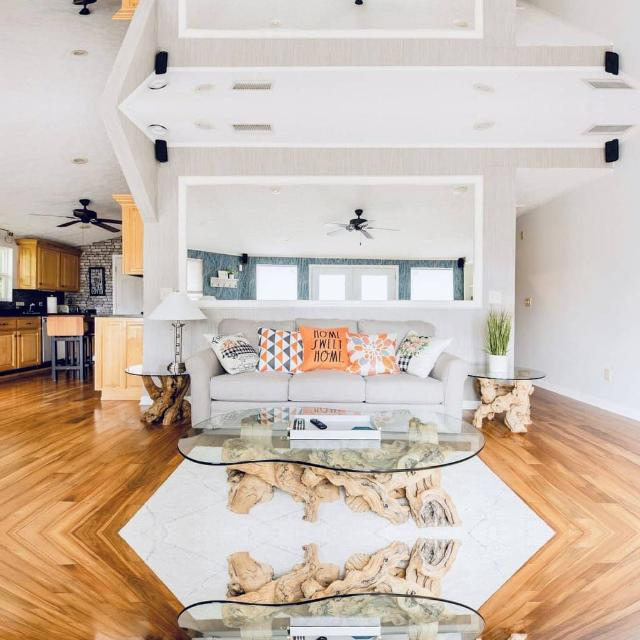lamp: (145, 292, 207, 369)
pillow: (398, 332, 454, 380), (299, 325, 352, 368), (349, 333, 400, 376), (204, 331, 256, 372), (257, 325, 301, 371)
